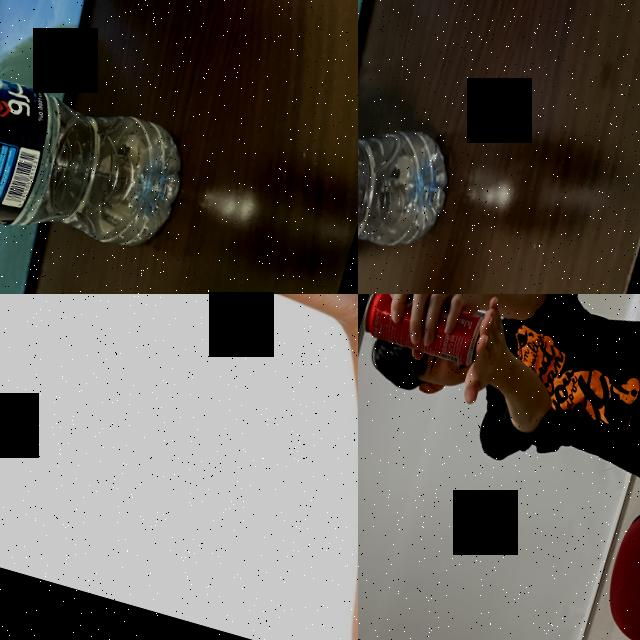bottle: (0, 7, 203, 286), (358, 35, 466, 294)
can: (358, 294, 487, 368)
